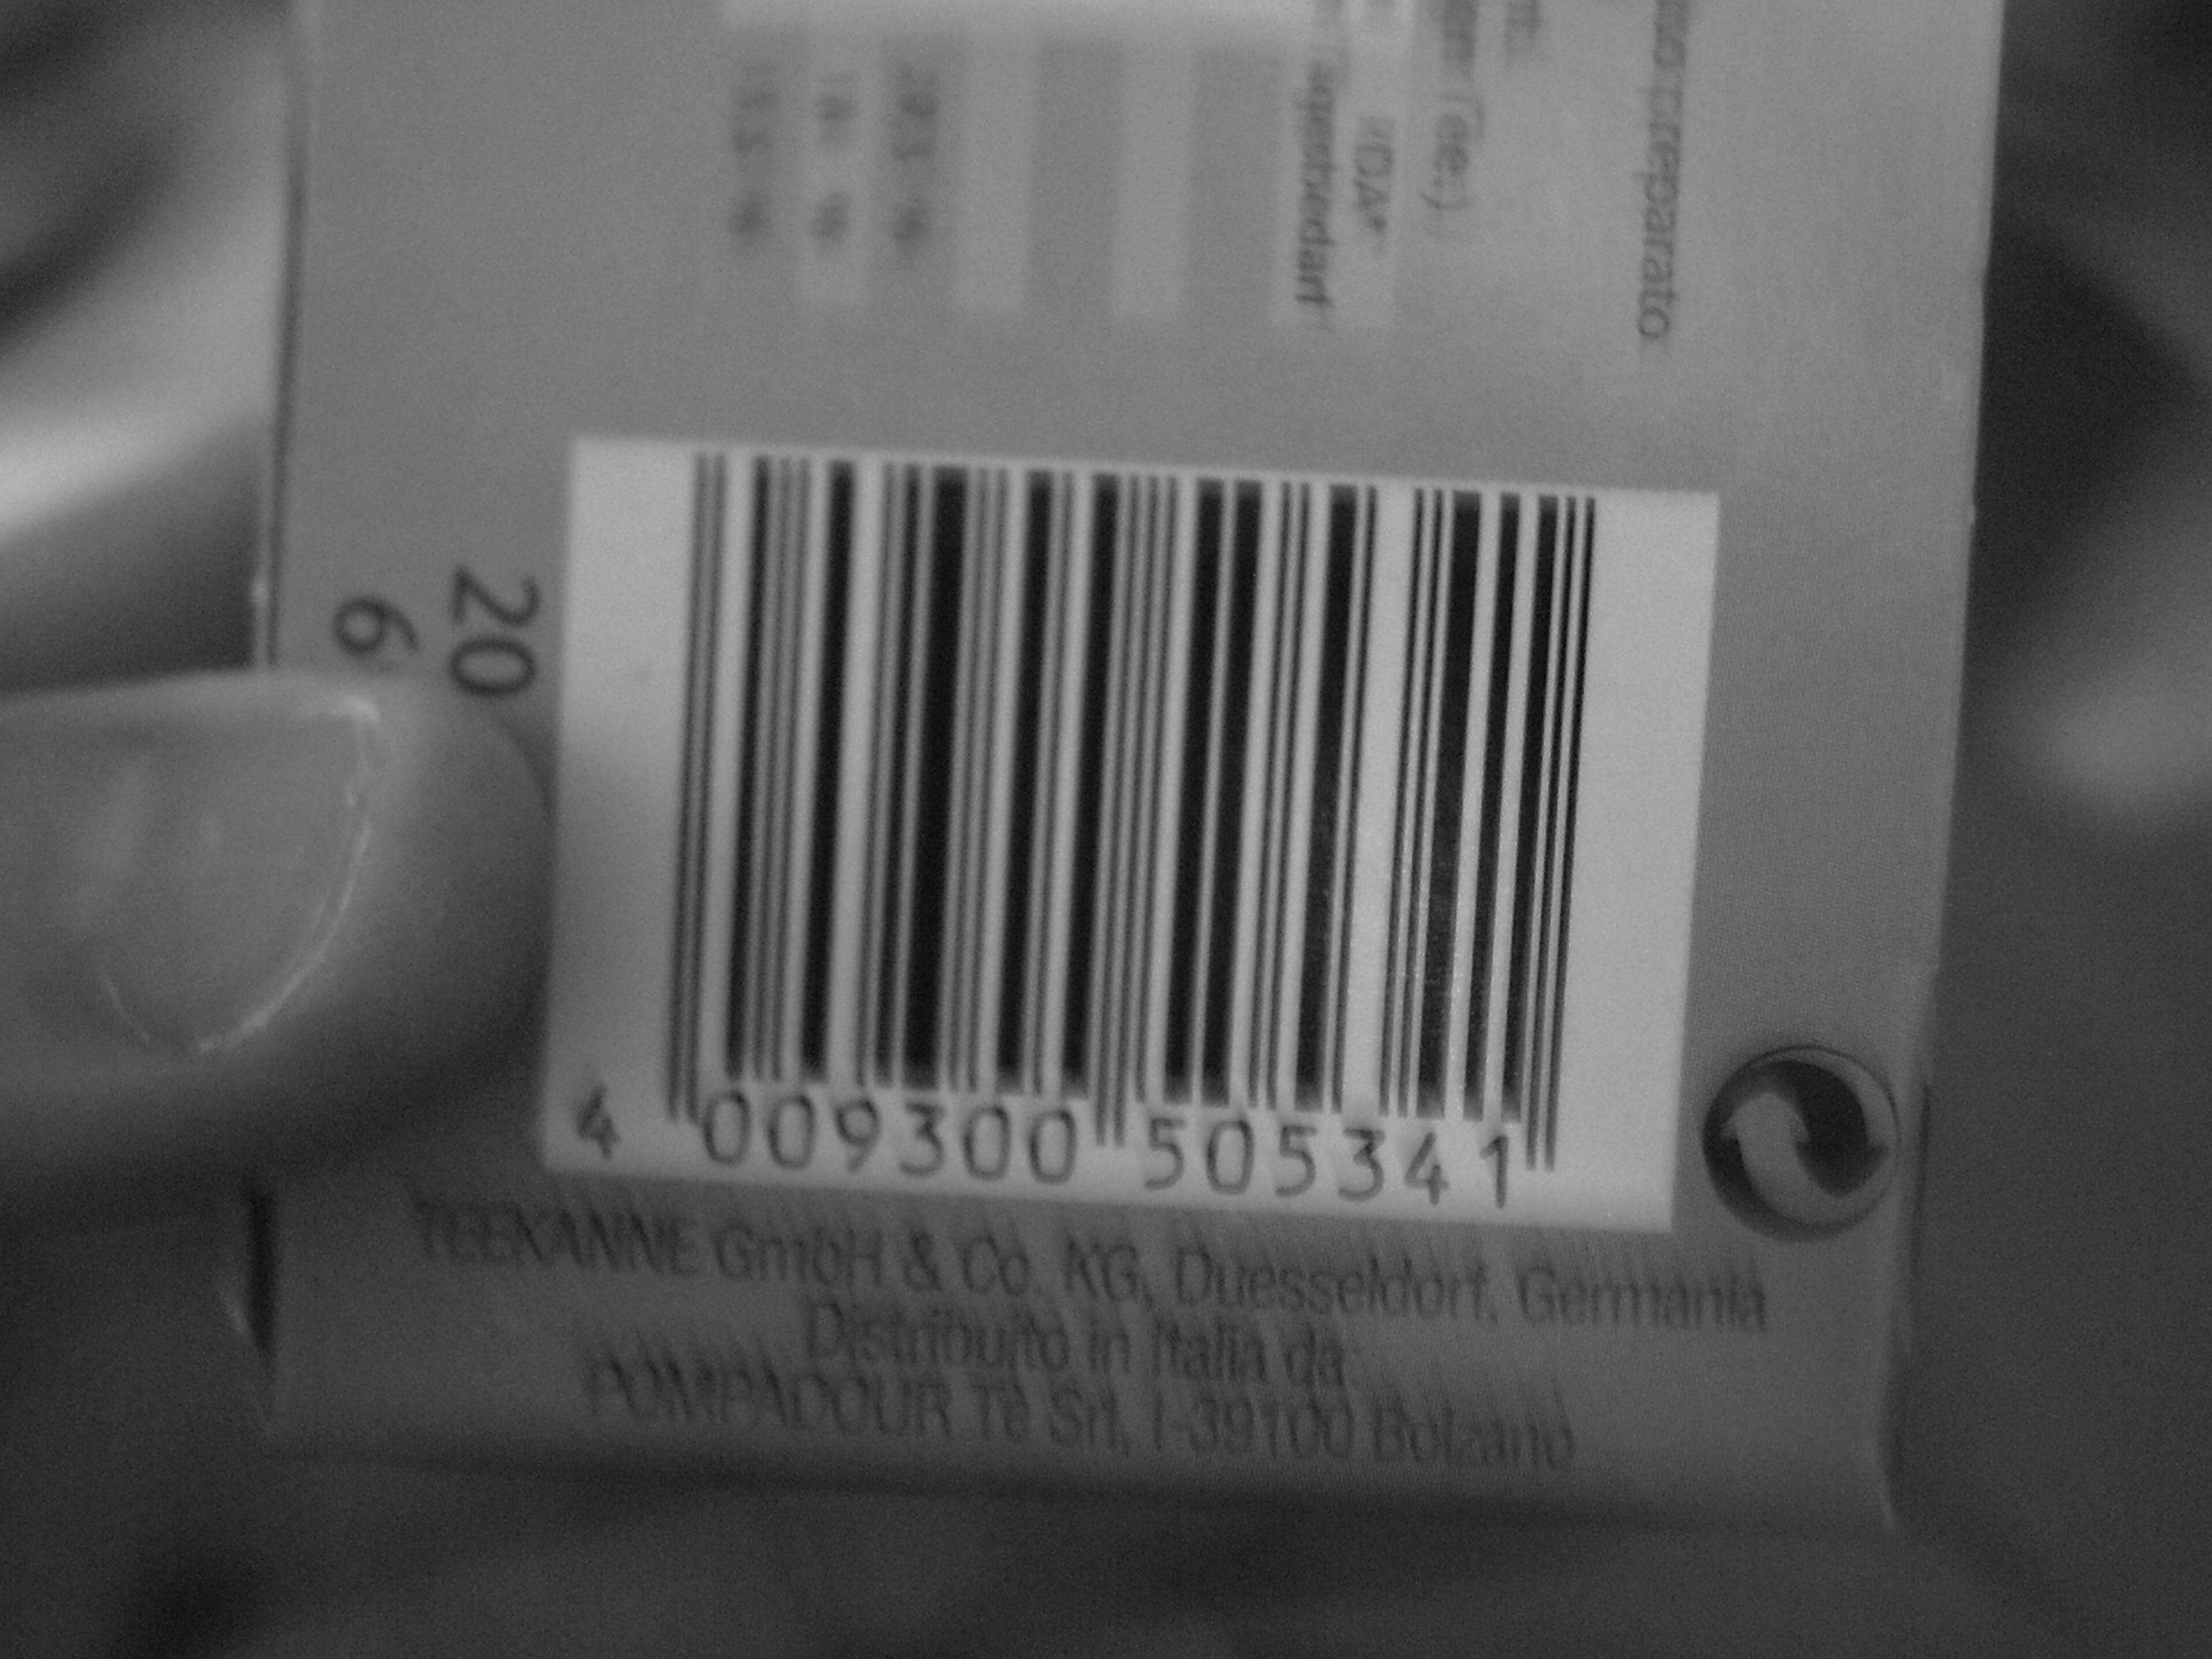Barcode: (622, 450, 1629, 1178)
